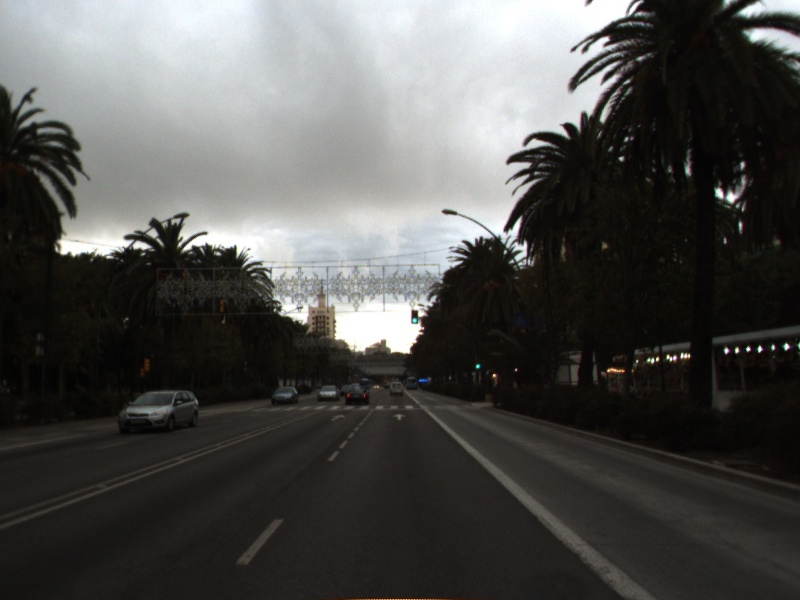STRAIGHT: (328, 412, 347, 423), (390, 411, 408, 422)
